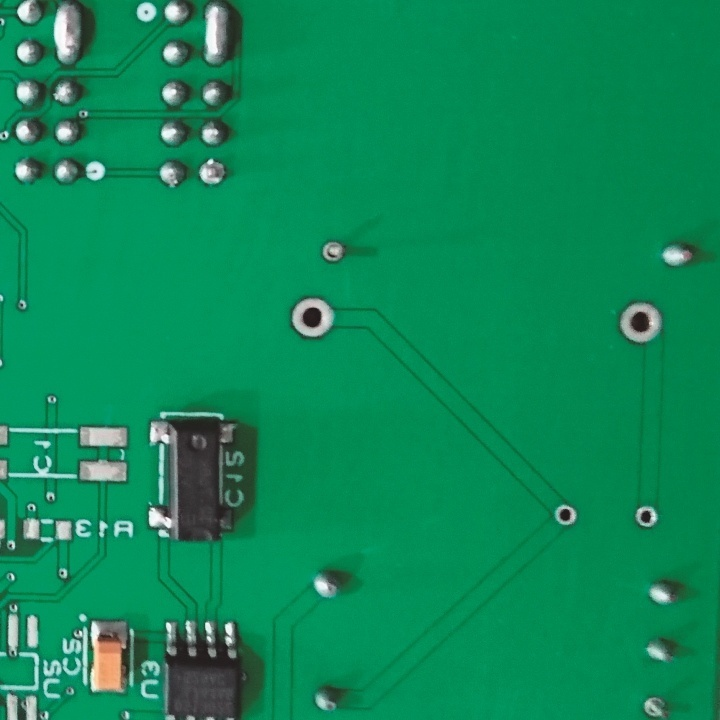F: (287, 294, 338, 343), (615, 298, 667, 346), (196, 155, 229, 189), (641, 689, 673, 720), (548, 501, 579, 531), (631, 501, 659, 532), (319, 238, 348, 265)
P: (50, 1, 90, 74), (200, 1, 236, 72)
